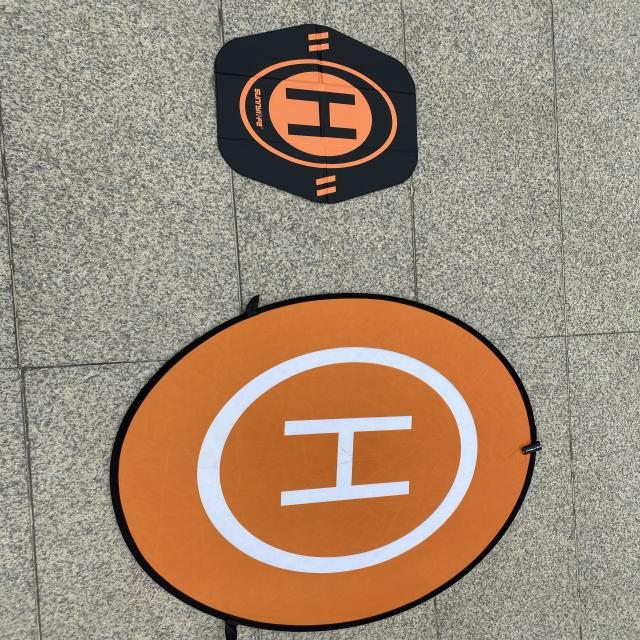helipad: (190, 342, 484, 580), (232, 53, 403, 173)
